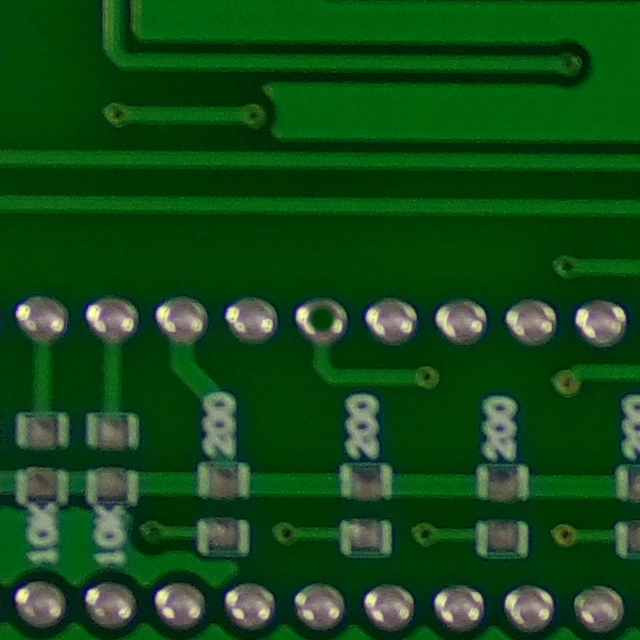missing_hole: (287, 287, 354, 353)
